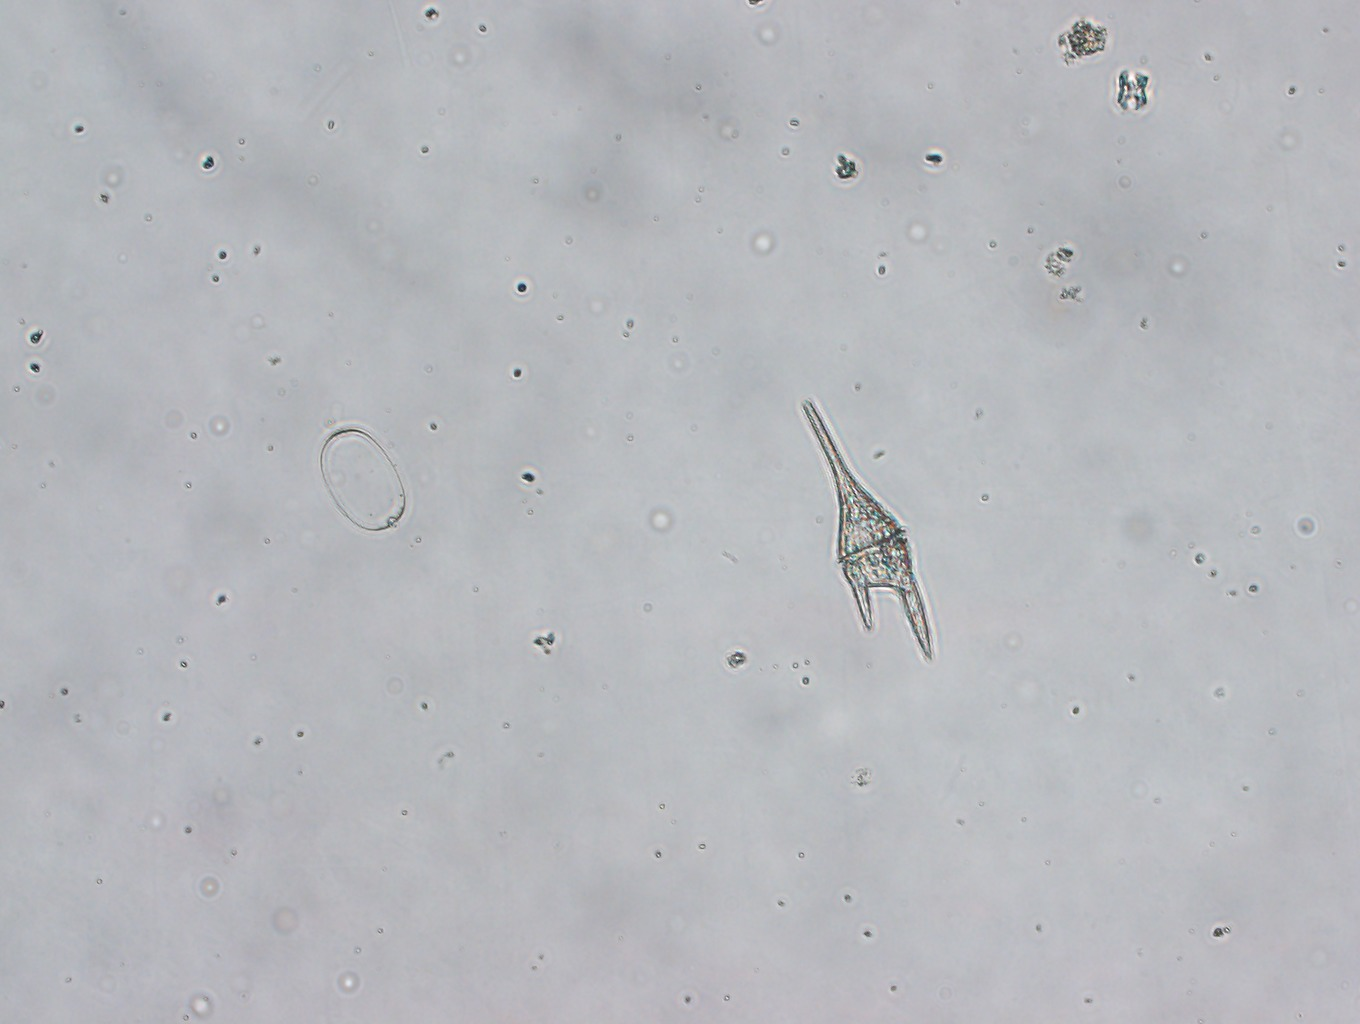ceratium furca: (789, 392, 941, 665)
